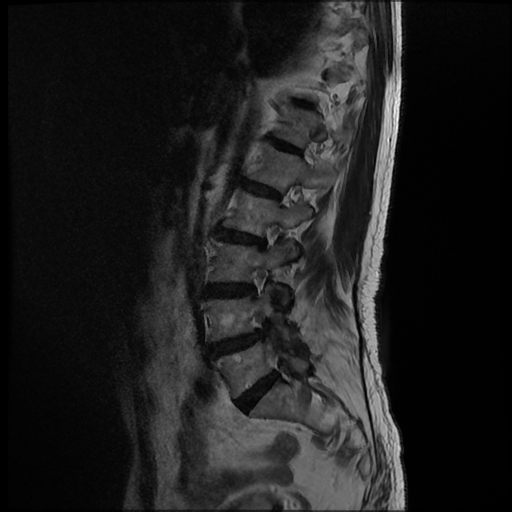RFS0: (241, 259, 275, 305), (254, 213, 288, 257)
